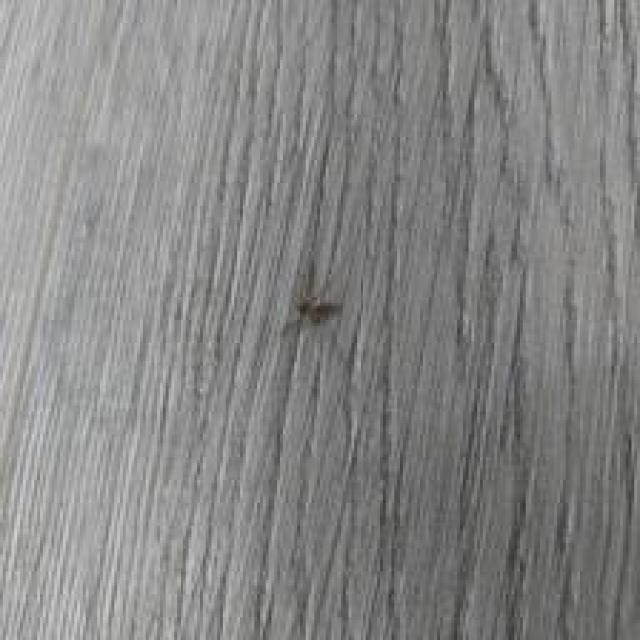Culex: (294, 294, 343, 326)
